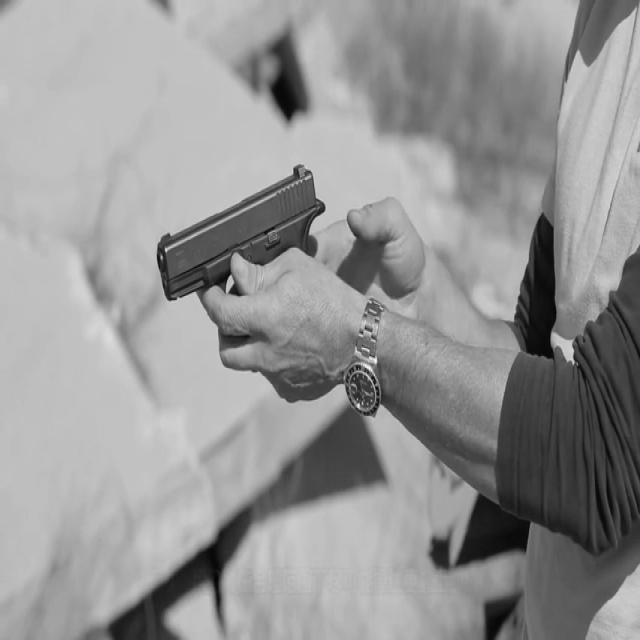Hand-Gun: (146, 157, 329, 386)
